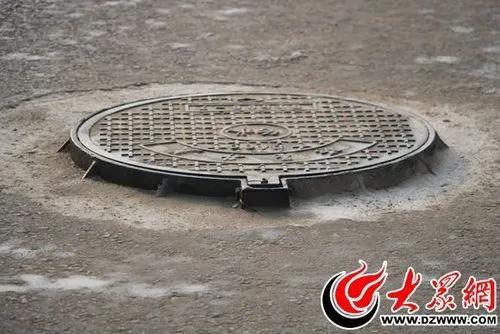wellcover: (55, 76, 467, 213)
